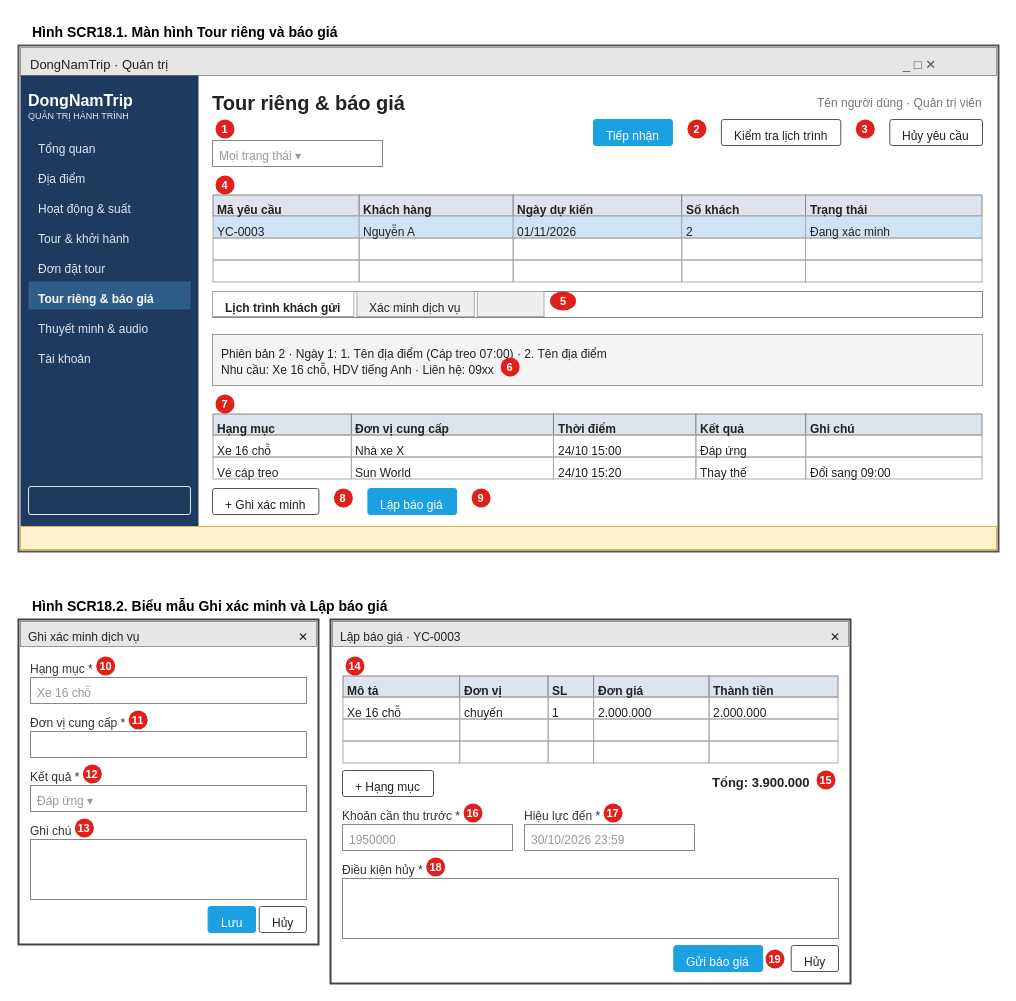
The diagram is 1016 pixels wide and 1001 high, and some of its shapes have lost their labels. Here are the shapes that lost their labels. From the top down, the box of each, then its label:
(476, 290, 544, 316): Báo giá
(28, 486, 190, 514): Đăng xuất & đóng
(20, 526, 996, 550): DEMO · Dữ liệu trong bộ nhớ · Chưa kết nối SQL Server
